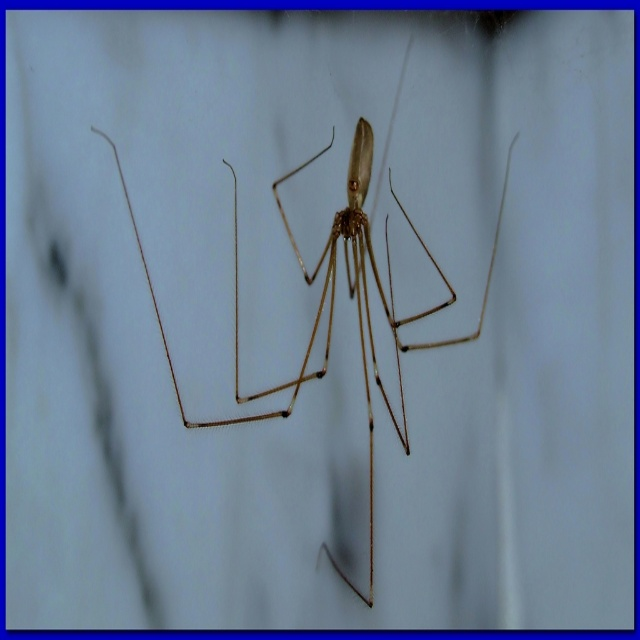Spider: (90, 35, 520, 609)
